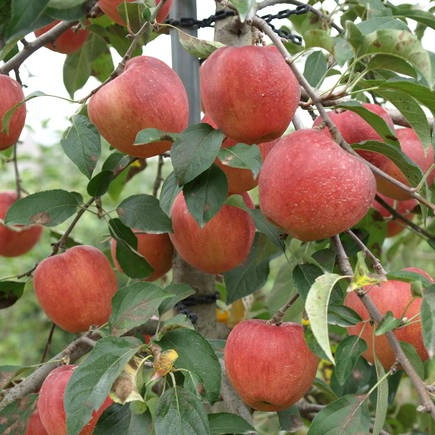apple: (261, 129, 378, 241), (197, 42, 297, 148), (87, 57, 191, 158), (338, 262, 435, 368), (229, 315, 322, 410), (173, 182, 254, 274), (34, 246, 120, 332), (38, 362, 119, 435), (312, 99, 391, 167), (375, 124, 435, 201), (30, 11, 88, 55), (99, 1, 173, 33), (1, 75, 31, 147)
